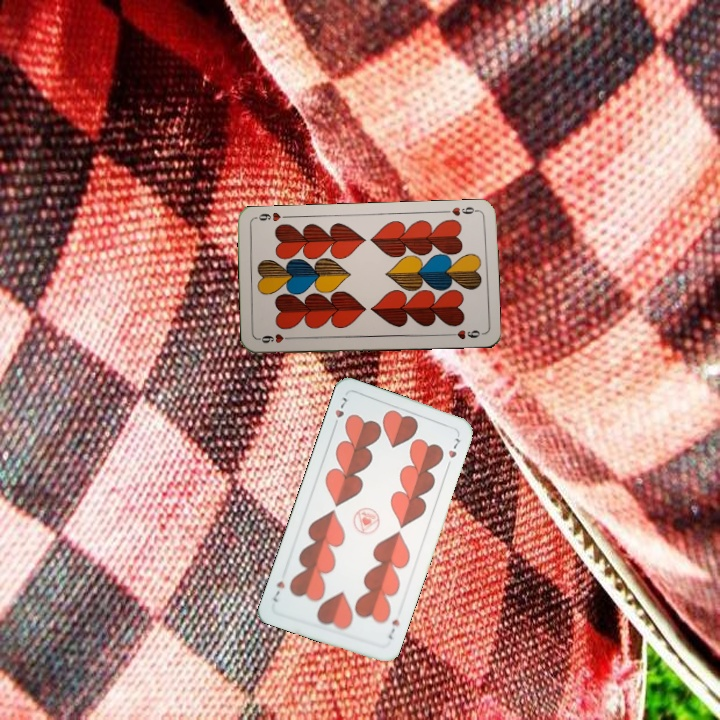H7: (330, 393, 350, 431), (384, 615, 402, 642)
H9: (255, 329, 296, 346), (440, 202, 480, 219)
